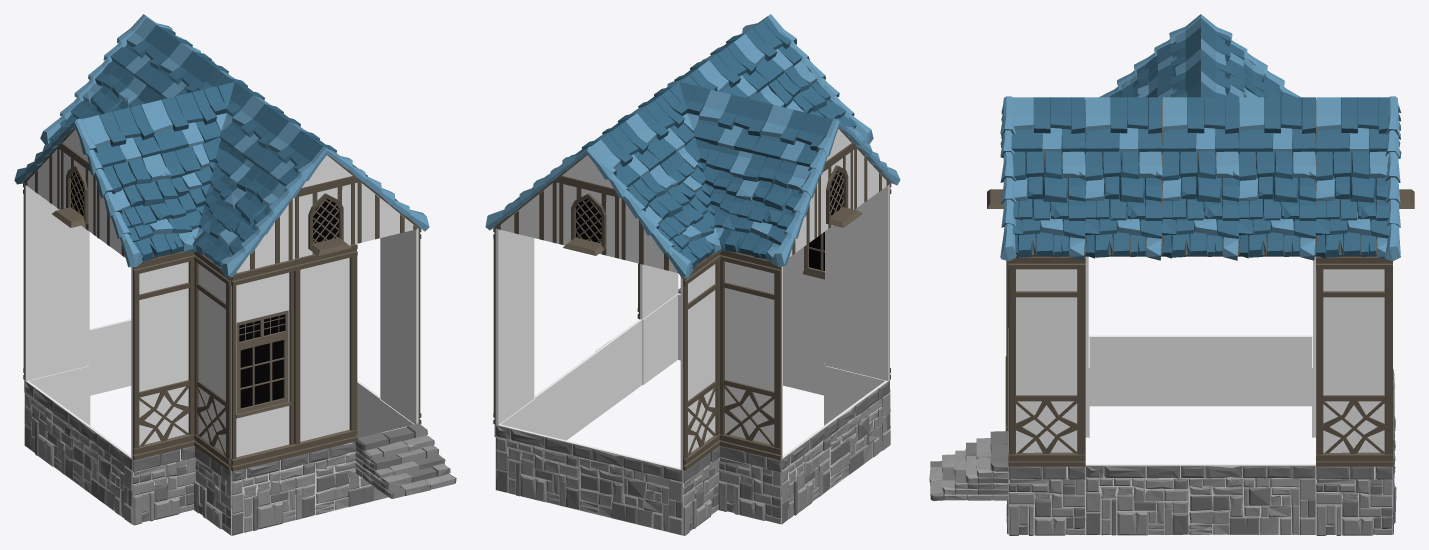
Rendered from house_05_parts.glb.
3 views of the same model, side by side, from view 1: azimuth 30°, elevation 25°; view 2: azimuth 150°, elevation 25°; view 3: azimuth 270°, elevation 25° (orthographic). The views are drawn at different scales.
Visible parts, largest first — view 1: WALL_04_4, WALL_03_3, WINDOW_04_3, WALL_04_5, FOUNDATION_02_10, FOUNDATION_02_11, WALL_04_3, WALL_04_8, ROOF_base_6, STAIRS_01_6, ROOF_inner_corner_3, ROOF_base_5 (+27 smaller); view 2: FOUNDATION_02_12, WALL_04_5, WALL_04_4, WALL_04_6, WALL_04_7, FOUNDATION_02_11, FOUNDATION_02_13, ROOF_base_11, ROOF_inner_corner_4, ROOF_base_10, FOUNDATION_03_8, ROOF_triangle_window_grid_8 (+28 smaller); view 3: FOUNDATION_02_13, WALL_04_8, WALL_04_7, FOUNDATION_02_11, ROOF_base_7, ROOF_base_4, ROOF_base_8, ROOF_base_9, ROOF_base_3, FOUNDATION_03_11, FOUNDATION_03_10, STAIRS_01_6 (+15 smaller).
Boxes of the visible parts, <box> form: WALL_04_4: <box>131,251,194,460</box>; WALL_03_3: <box>294,244,357,456</box>; WINDOW_04_3: <box>231,259,295,471</box>; WALL_04_5: <box>23,183,88,381</box>; FOUNDATION_02_10: <box>231,426,406,535</box>; FOUNDATION_02_11: <box>24,380,133,524</box>; WALL_04_3: <box>194,251,231,470</box>; WALL_04_8: <box>380,227,421,424</box>; ROOF_base_6: <box>103,154,195,262</box>; STAIRS_01_6: <box>355,423,456,498</box>; ROOF_inner_corner_3: <box>161,137,253,239</box>; ROOF_base_5: <box>192,164,286,268</box>; FOUNDATION_02_12: <box>495,424,683,535</box>; WALL_04_5: <box>719,250,782,459</box>; WALL_04_4: <box>826,183,891,380</box>; WALL_04_6: <box>680,252,720,470</box>; WALL_04_7: <box>493,227,534,424</box>; FOUNDATION_02_11: <box>781,380,890,523</box>; FOUNDATION_02_13: <box>534,319,642,440</box>; ROOF_base_11: <box>719,153,811,264</box>; ROOF_inner_corner_4: <box>660,137,752,239</box>; ROOF_base_10: <box>628,164,721,268</box>; FOUNDATION_03_8: <box>718,445,782,524</box>; ROOF_triangle_window_grid_8: <box>558,183,620,258</box>; FOUNDATION_02_13: <box>1085,464,1315,535</box>; WALL_04_8: <box>1008,256,1085,466</box>; WALL_04_7: <box>1316,256,1392,466</box>; FOUNDATION_02_11: <box>1088,335,1311,406</box>; ROOF_base_7: <box>1161,151,1239,260</box>; ROOF_base_4: <box>1084,150,1162,260</box>; ROOF_base_8: <box>1238,151,1316,260</box>; ROOF_base_9: <box>1315,151,1390,259</box>; ROOF_base_3: <box>1008,151,1085,260</box>; FOUNDATION_03_11: <box>1008,466,1085,535</box>; FOUNDATION_03_10: <box>1316,466,1392,535</box>; STAIRS_01_6: <box>929,431,1008,500</box>.
Size of the model in its own units: 4.39 by 5.6 by 6.31.
1 material, 1 textured.
